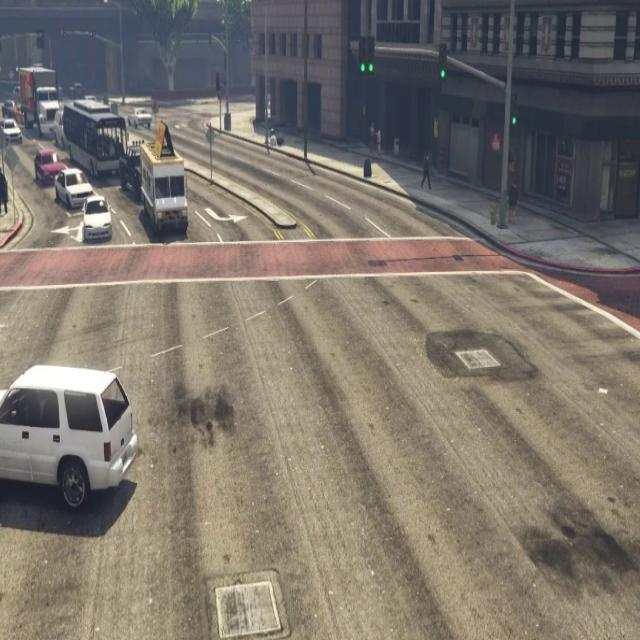Green-Signal: (355, 28, 382, 102), (505, 79, 524, 148), (433, 36, 453, 100)
